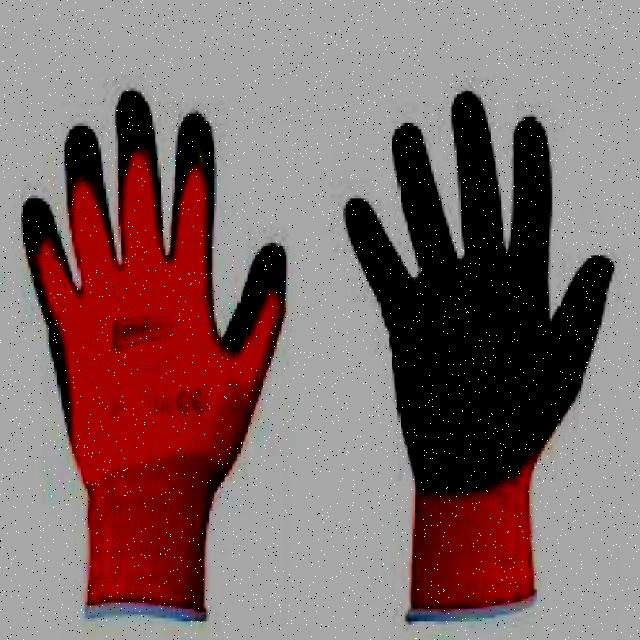Gloves: (18, 68, 306, 557), (340, 76, 618, 515)
